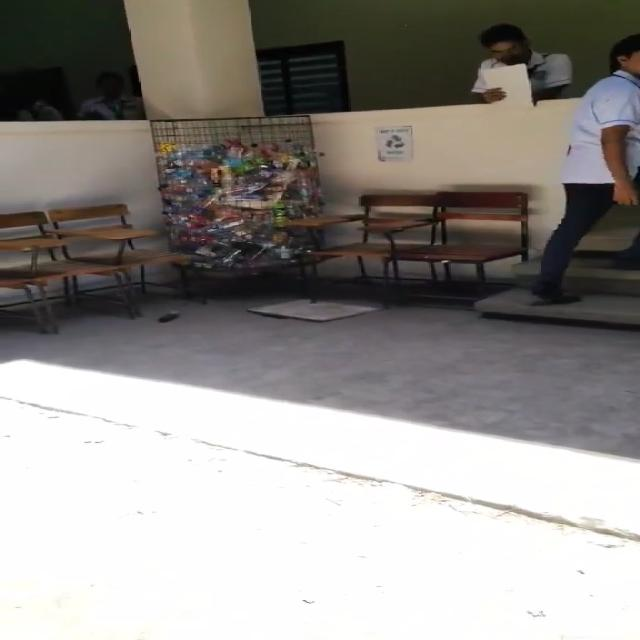Bottle: (157, 309, 179, 324)
